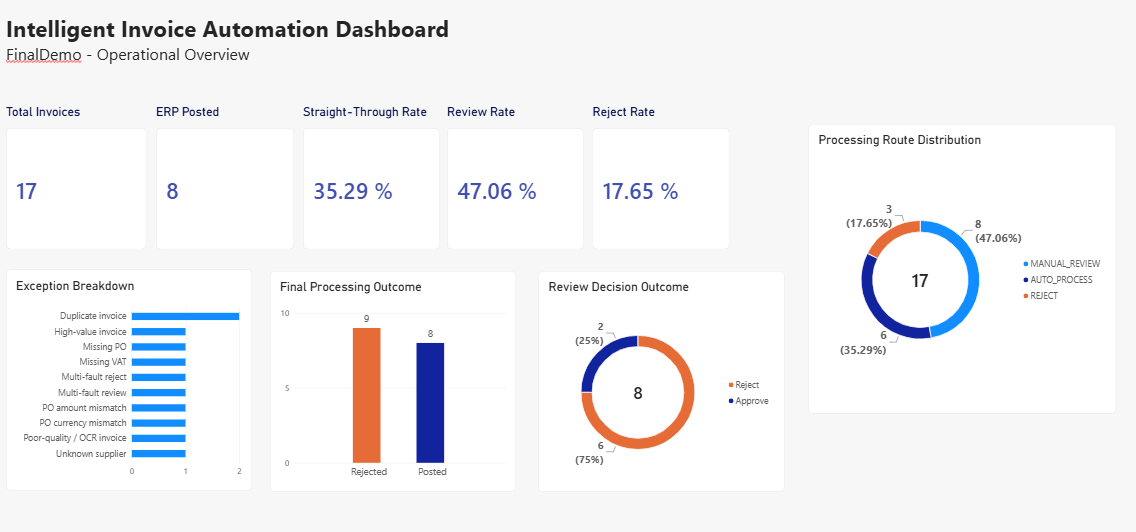

This screenshot's page, from the dashboard's own definition file:
{"tool":"powerbi","page":{"name":"Page 1","canvas":[1920,1080],"ordinal":0},"visuals":[{"type":"cardVisual","title":"Total Invoices","fields":{"Data":["CountNonNull(FinalDemo.Scenario)"]},"box":[20,178,234,242],"z":0},{"type":"cardVisual","title":"ERP Posted","fields":{"Data":["CountNonNull(FinalDemo.ERP Posted)"]},"box":[270,178,230,242],"z":1000},{"type":"donutChart","title":"Processing Route Distribution","fields":{"Category":["FinalDemo.Route"],"Y":["CountNonNull(FinalDemo.Scenario)"]},"box":[1357.5,210,512.5,482.5],"z":2000},{"type":"clusteredColumnChart","title":"Final Processing Outcome","fields":{"Category":["FinalDemo.Final Result"],"Y":["CountNonNull(FinalDemo.Scenario)"]},"box":[460,455,410,368],"z":3000},{"type":"clusteredBarChart","title":"Exception Breakdown","fields":{"Category":["FinalDemo.Test Case"],"Y":["CountNonNull(FinalDemo.Scenario)"]},"box":[20,452.5,410,368],"z":4000},{"type":"donutChart","title":"Review Decision Outcome","fields":{"Category":["FinalDemo.Review Decision"],"Y":["CountNonNull(FinalDemo.Scenario)"]},"box":[907.5,455,410,368],"z":5000},{"type":"cardVisual","title":"Straight-Through Rate","fields":{"Data":["FinalDemo.Straight-Through Rate"]},"box":[514,178,228,242],"z":6000},{"type":"cardVisual","title":"Review Rate","fields":{"Data":["FinalDemo.Review Rate"]},"box":[756,178,228,242],"z":7000},{"type":"cardVisual","title":"Reject Rate","fields":{"Data":["FinalDemo.Reject Rate"]},"box":[998,178,228,242],"z":8000},{"type":"textbox","box":[20,25,775,90],"z":9000}]}

Visuals, with their boxes on the page's 1920x1080 design canvas (x1, y1, x2, y2). These are canvas units, not pixel positions in the 1136x532 screenshot, which may show the page scaled, cropped or inside an application window:
"Total Invoices" cardVisual: detection(20, 178, 254, 420)
"ERP Posted" cardVisual: detection(270, 178, 500, 420)
"Processing Route Distribution" donutChart: detection(1358, 210, 1870, 692)
"Final Processing Outcome" clusteredColumnChart: detection(460, 455, 870, 823)
"Exception Breakdown" clusteredBarChart: detection(20, 452, 430, 820)
"Review Decision Outcome" donutChart: detection(908, 455, 1318, 823)
"Straight-Through Rate" cardVisual: detection(514, 178, 742, 420)
"Review Rate" cardVisual: detection(756, 178, 984, 420)
"Reject Rate" cardVisual: detection(998, 178, 1226, 420)
textbox: detection(20, 25, 795, 115)
